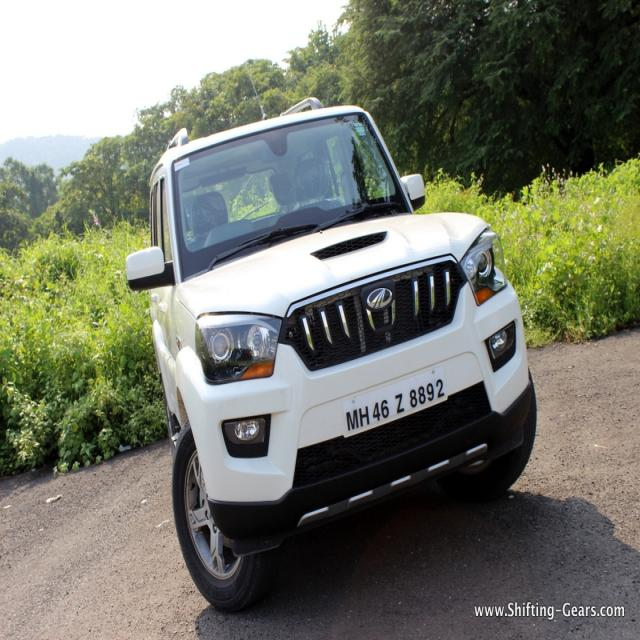number_plate: (339, 371, 448, 438)
